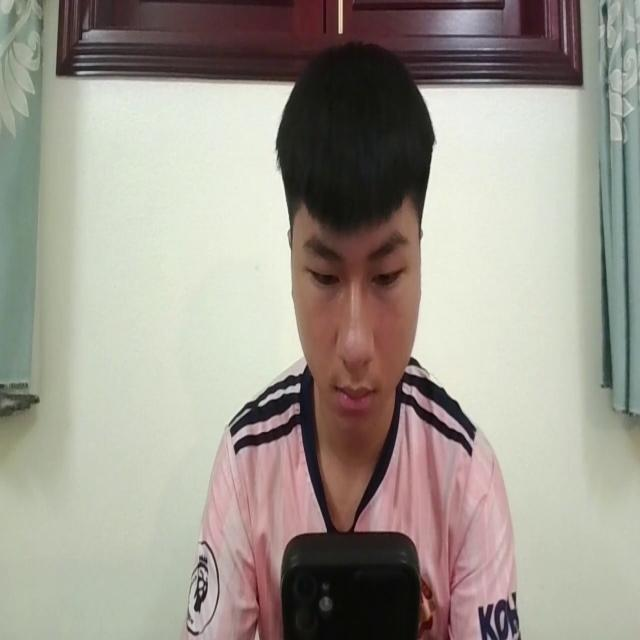phone: (278, 523, 419, 640)
student: (188, 37, 516, 640)
